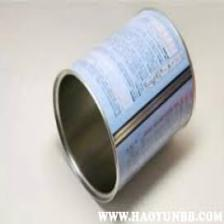metal: (45, 2, 193, 210)
